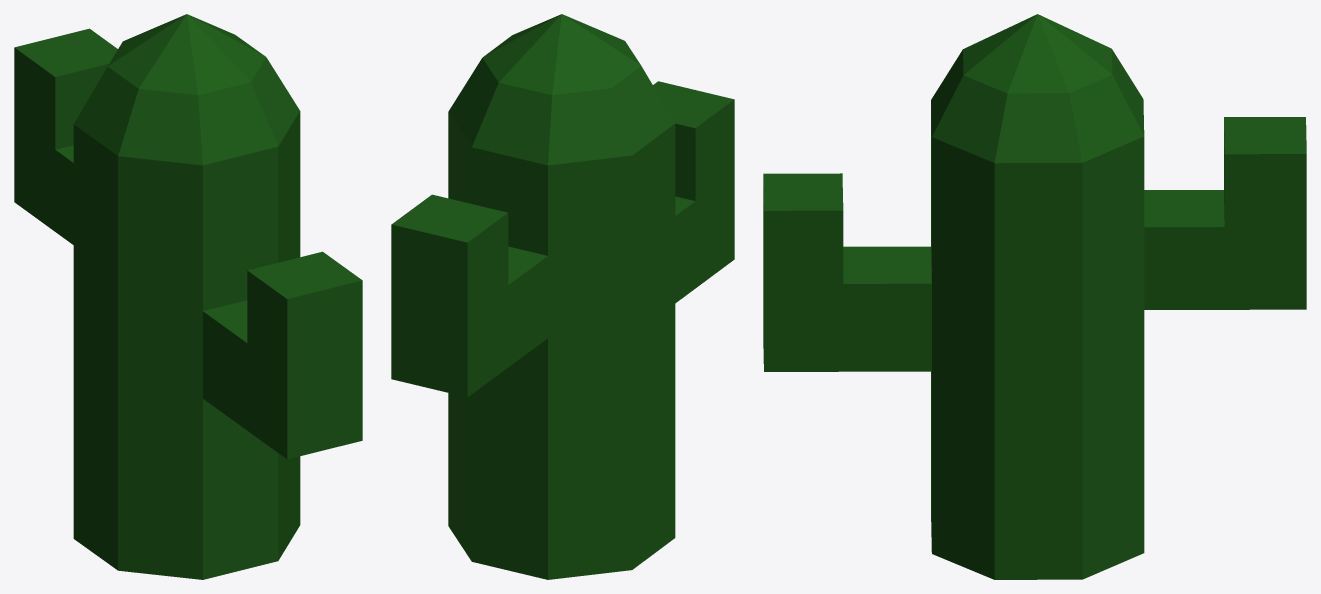
Rendered from Cactus.fbx.
The picture shows the model from 3 angles, left to right: view 1: azimuth 30°, elevation 25°; view 2: azimuth 150°, elevation 25°; view 3: azimuth 270°, elevation 25°; orthographic projection.
Parts seen in each view (by area): view 1: Cactus; view 2: Cactus; view 3: Cactus.
Boxes of the visible parts, x1,y1,x2,y2 form: Cactus: (14, 14, 362, 579); Cactus: (391, 14, 734, 579); Cactus: (763, 14, 1306, 579).
Bounding box in the file's own units: 185 × 500 × 473.
